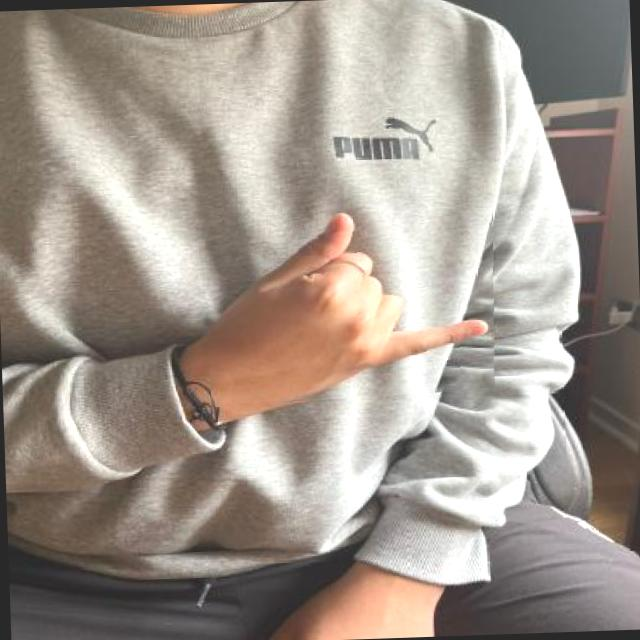J: (204, 207, 498, 407)
